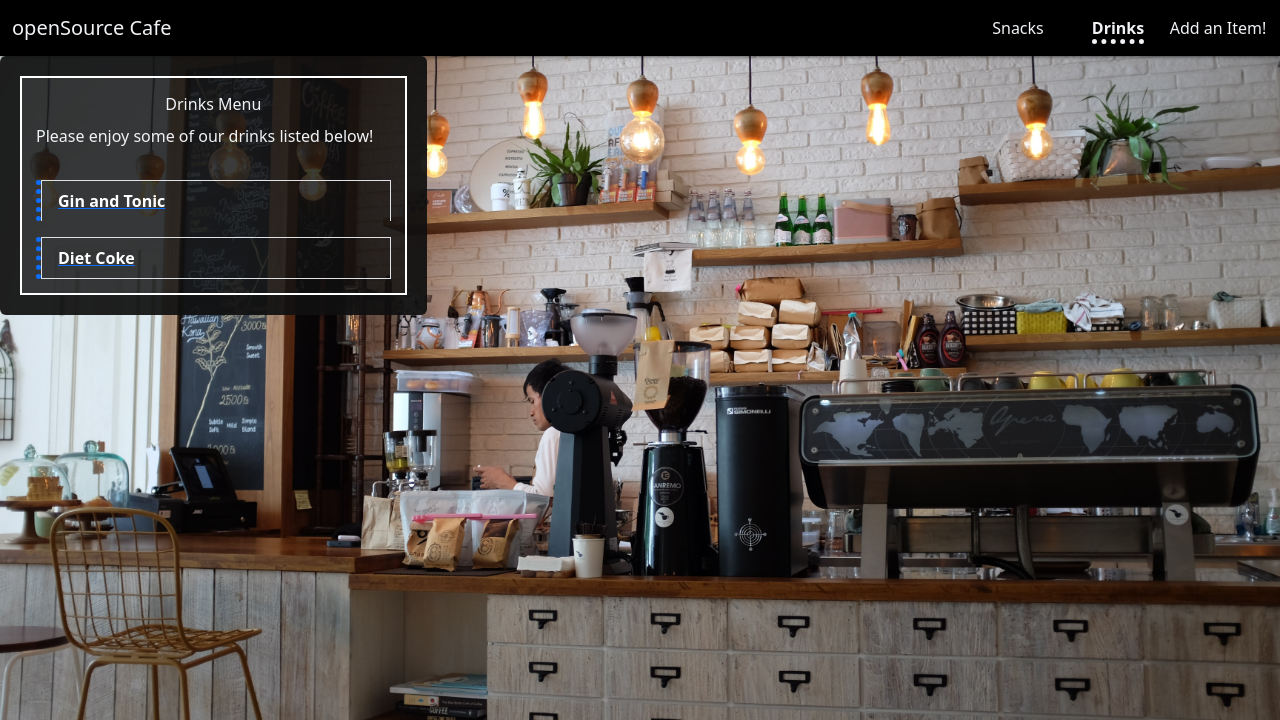
Test: handles errors from API upon submission
The width and height of the screenshot is (1280, 720).
Click the link with class "NavLink-new-item" at coordinates (1218, 28), box top-left (1170, 17), bottom-right (1266, 39)
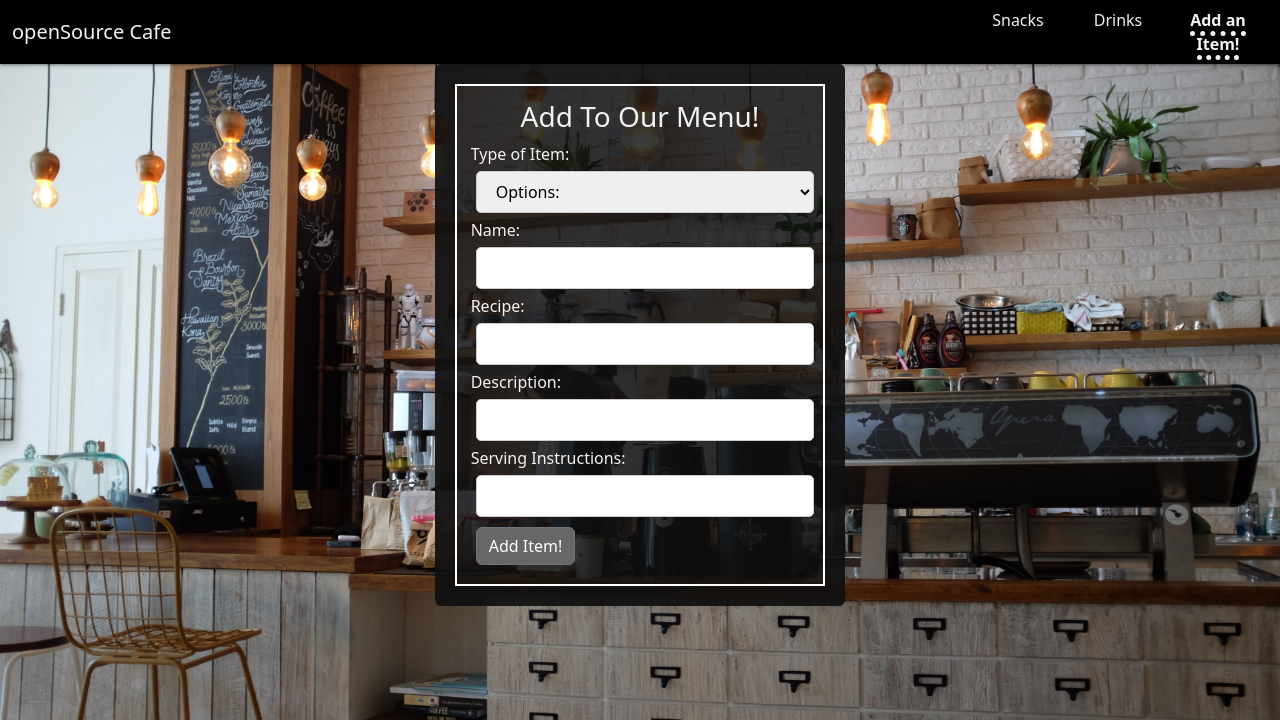
Select "Drink" in the dropdown with class "NewItemForm-type" at coordinates (645, 192), box top-left (476, 171), bottom-right (814, 213)
Type "New Drink!" into the field with id "NewItemForm-name" at coordinates (645, 268), box top-left (476, 247), bottom-right (814, 289)
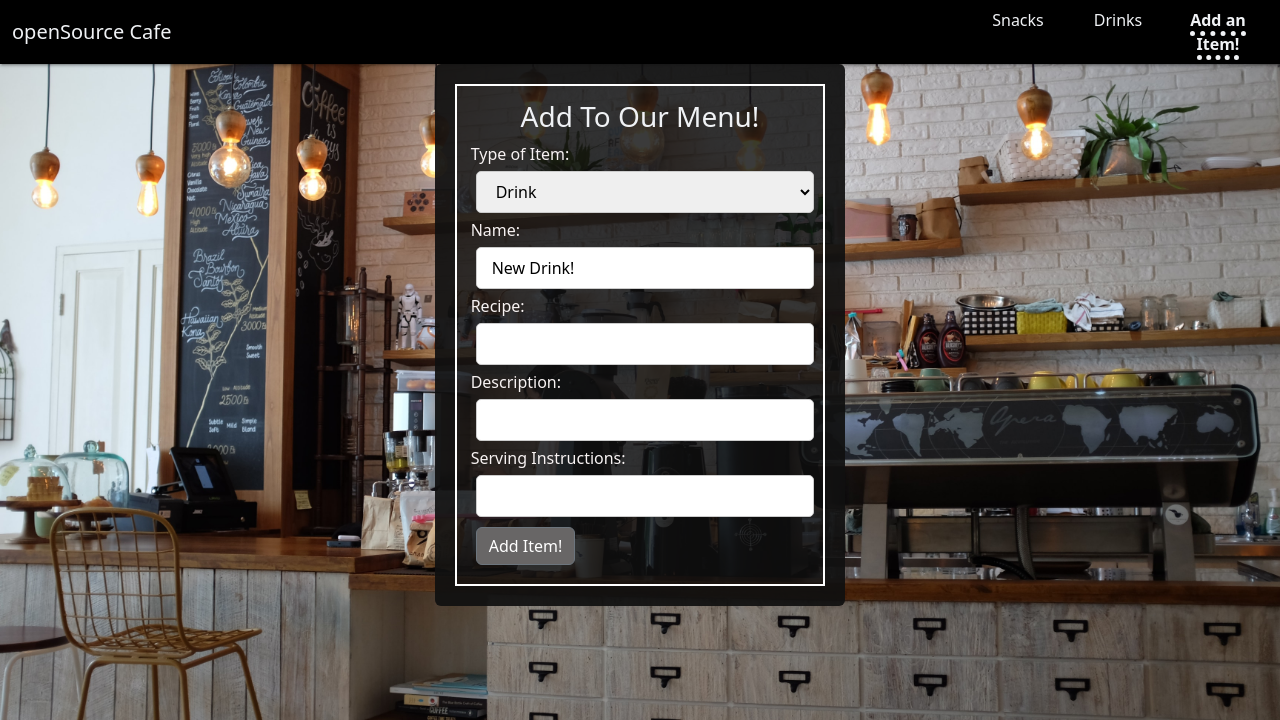
Type "Just have fun out there." into the field with id "NewItemForm-recipe" at coordinates (645, 344), box top-left (476, 323), bottom-right (814, 365)
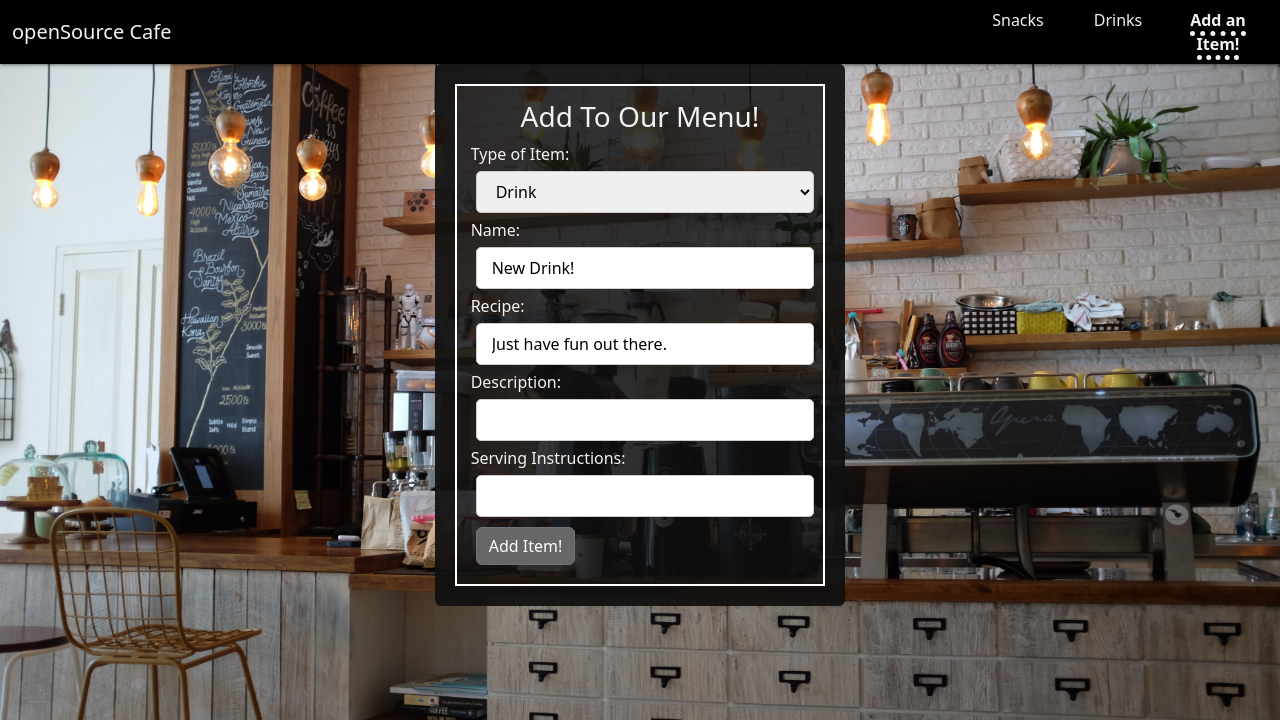
Type "New drink description." into the field with id "NewItemForm-description" at coordinates (645, 420), box top-left (476, 399), bottom-right (814, 441)
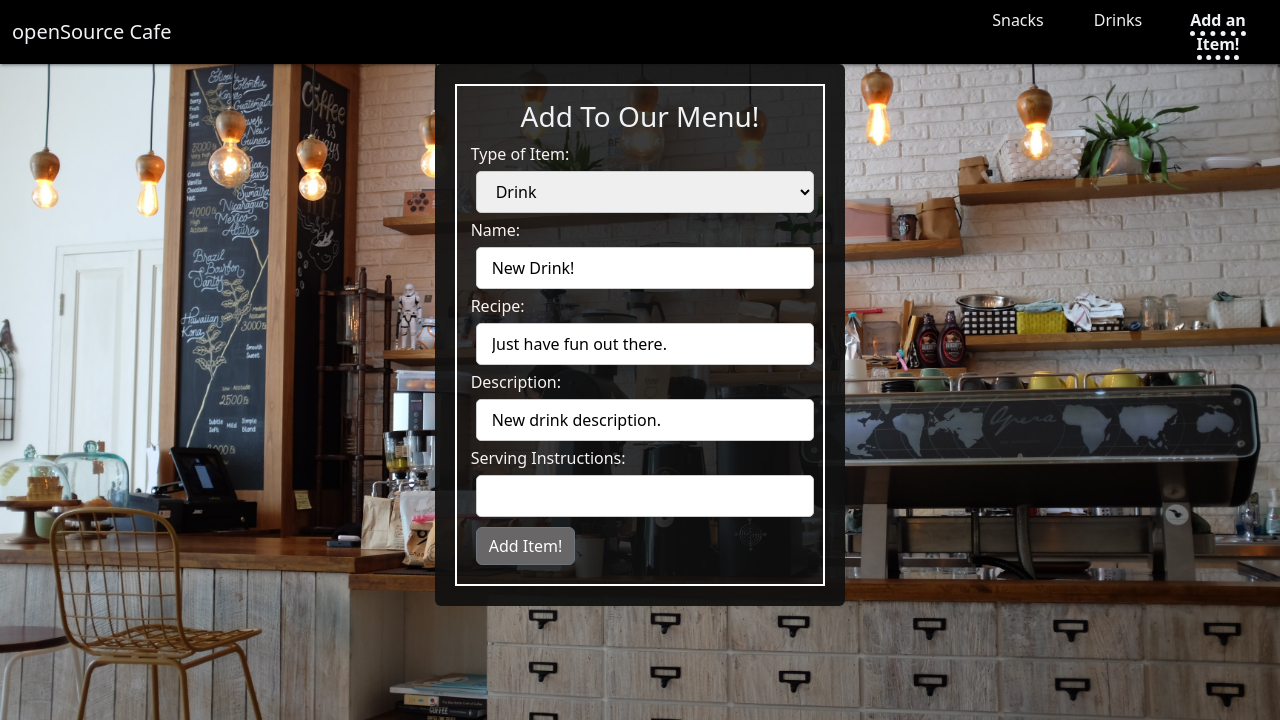
Type "All day" into the field with id "NewItemForm-serving-instructions" at coordinates (645, 496), box top-left (476, 475), bottom-right (814, 517)
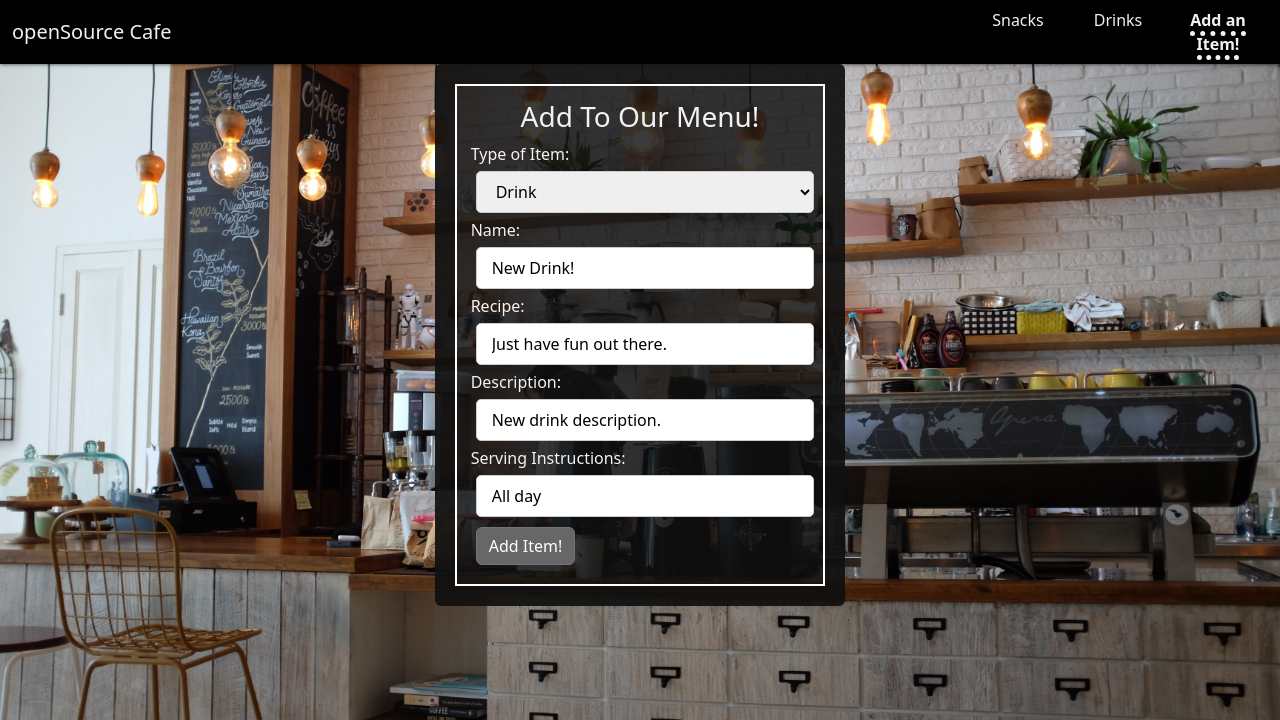
Submit the form with class "NewItemForm-form", box top-left (471, 142), bottom-right (809, 570)
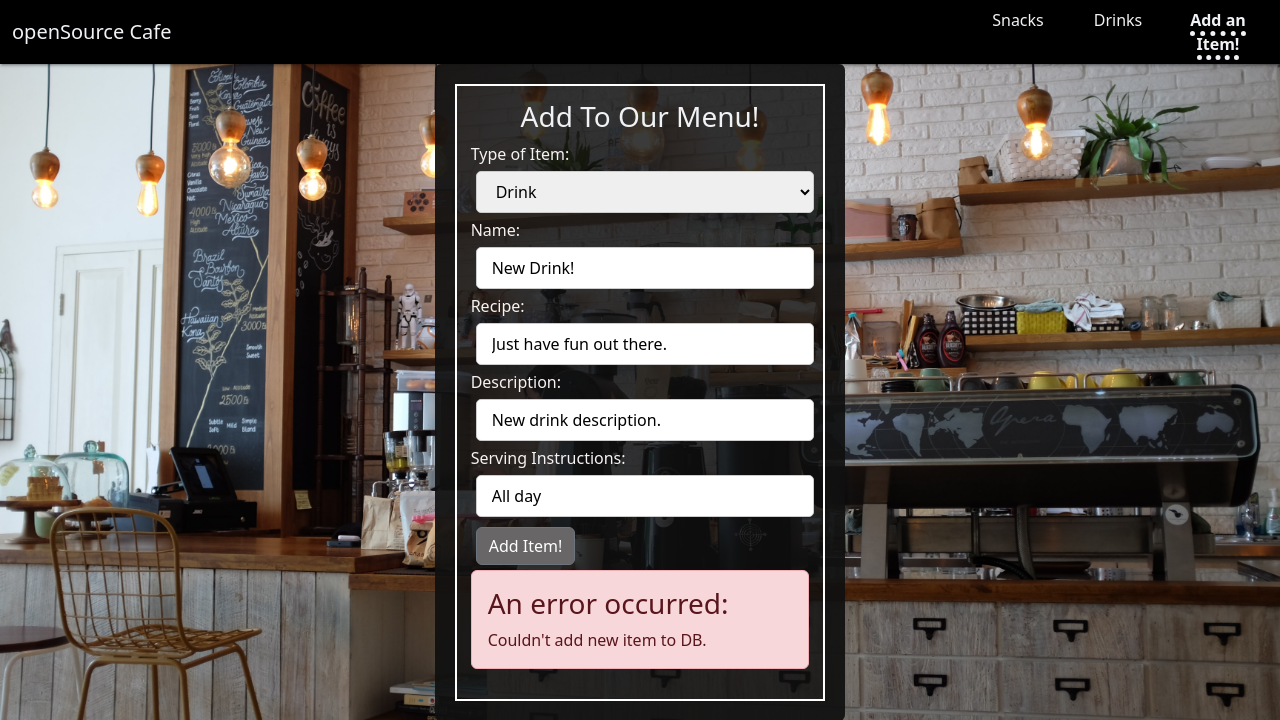
Expected: the element with class "Error" shows "Couldn't add new item to DB.", top-left (488, 629), bottom-right (707, 651)
